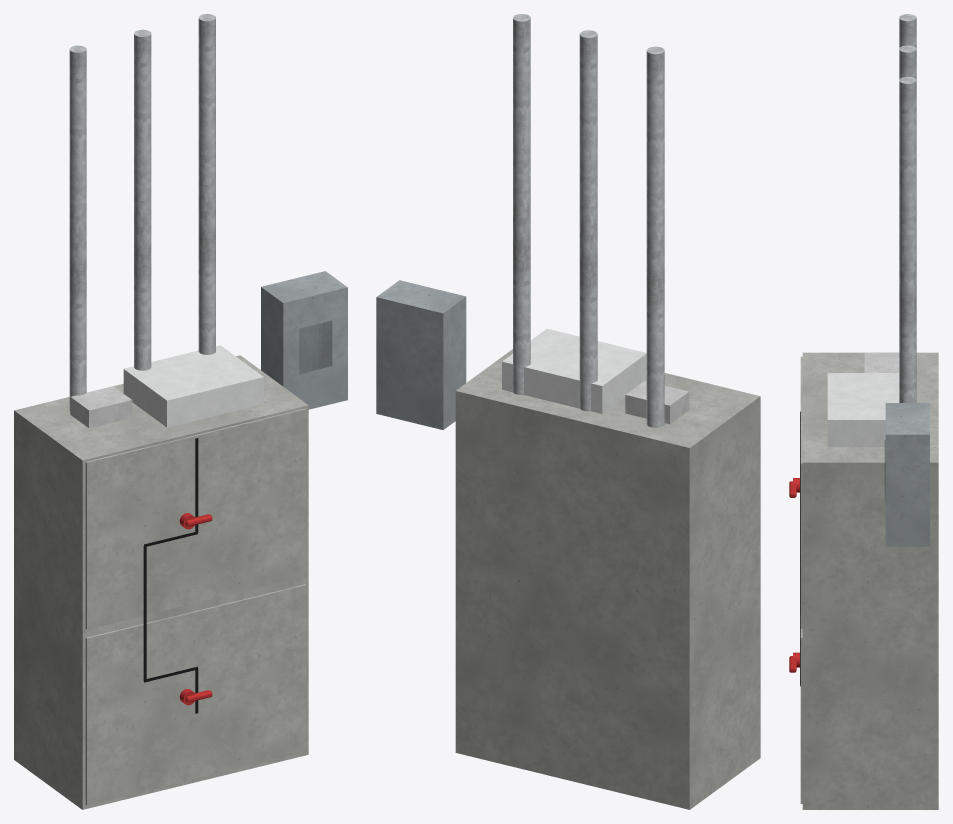
File: B13_ATS_Changeover_Cabinet.fbx
3 renders of one model, left to right at view 1: azimuth 30°, elevation 25°; view 2: azimuth 150°, elevation 25°; view 3: azimuth 270°, elevation 25°, orthographic. The views are drawn at different scales.
Parts seen in each view (by area): view 1: Door_Lower.001, Door_Upper.001, Body.003, Side_Box, Top_WhiteBox, Conduit_0.001, Conduit_1.001, Conduit_2.001, Top_Device, Side_Box_Window; view 2: Body.003, Side_Box, Conduit_0.001, Conduit_1.001, Top_WhiteBox, Conduit_2.001, Top_Device; view 3: Body.003, Side_Box, Conduit_2.001, Top_WhiteBox, Door_Upper.001, Top_Device, Conduit_0.001, Conduit_1.001, Door_Lower.001.
Boxes of the visible parts, left/top/right/bottom form: Door_Lower.001: left=85, top=584, right=306, bottom=805; Door_Upper.001: left=85, top=408, right=306, bottom=629; Body.003: left=14, top=355, right=308, bottom=809; Side_Box: left=261, top=271, right=347, bottom=409; Top_WhiteBox: left=123, top=345, right=263, bottom=427; Conduit_0.001: left=69, top=45, right=86, bottom=410; Conduit_1.001: left=134, top=29, right=151, bottom=370; Conduit_2.001: left=198, top=14, right=215, bottom=354; Top_Device: left=70, top=386, right=132, bottom=428; Side_Box_Window: left=299, top=321, right=331, bottom=373; Body.003: left=455, top=349, right=760, bottom=809; Side_Box: left=376, top=280, right=466, bottom=429; Conduit_0.001: left=646, top=46, right=664, bottom=427; Conduit_1.001: left=579, top=30, right=597, bottom=411; Top_WhiteBox: left=502, top=328, right=646, bottom=413; Conduit_2.001: left=513, top=14, right=530, bottom=394; Top_Device: left=625, top=381, right=689, bottom=424; Body.003: left=802, top=352, right=938, bottom=809; Side_Box: left=885, top=403, right=929, bottom=546; Conduit_2.001: left=899, top=76, right=916, bottom=402; Top_WhiteBox: left=827, top=373, right=899, bottom=446; Door_Upper.001: left=800, top=356, right=802, bottom=628; Top_Device: left=864, top=353, right=899, bottom=372; Conduit_0.001: left=899, top=14, right=916, bottom=48; Conduit_1.001: left=899, top=45, right=916, bottom=79; Door_Lower.001: left=800, top=629, right=802, bottom=803.
Size of the model in its own units: 1.42 by 3.15 by 0.605.
8 materials, 5 textured.
